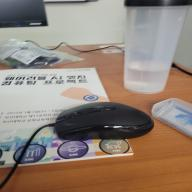mouse: (54, 100, 156, 142)
